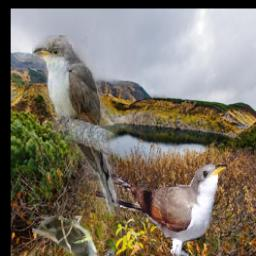Cuckoo: (32, 36, 119, 218), (97, 164, 228, 256), (33, 217, 106, 256)
